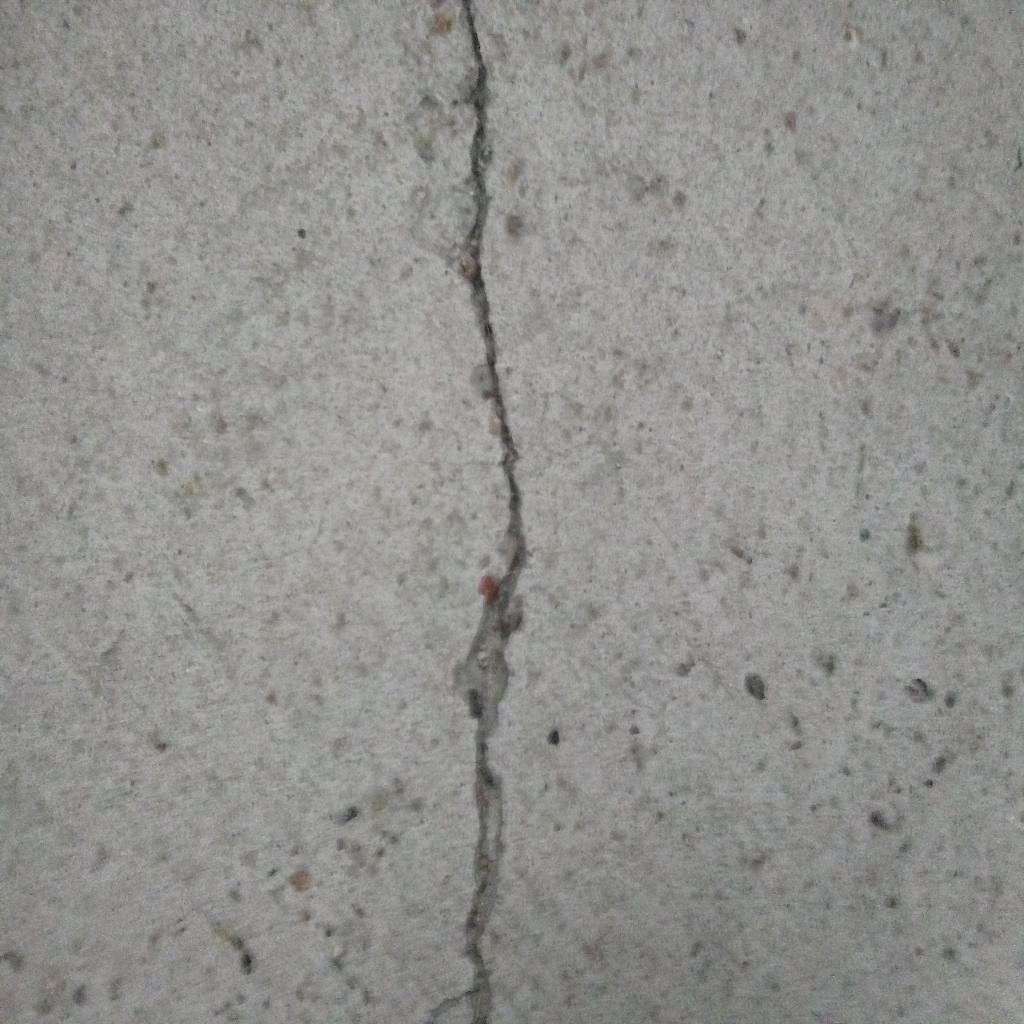Crack: (450, 1, 530, 1024)
